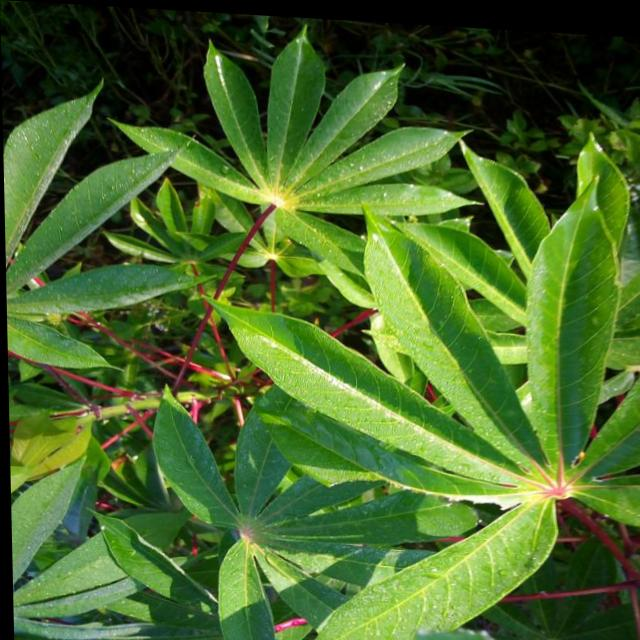Mosaico: (410, 385, 585, 568), (193, 140, 334, 251), (6, 401, 127, 487)
